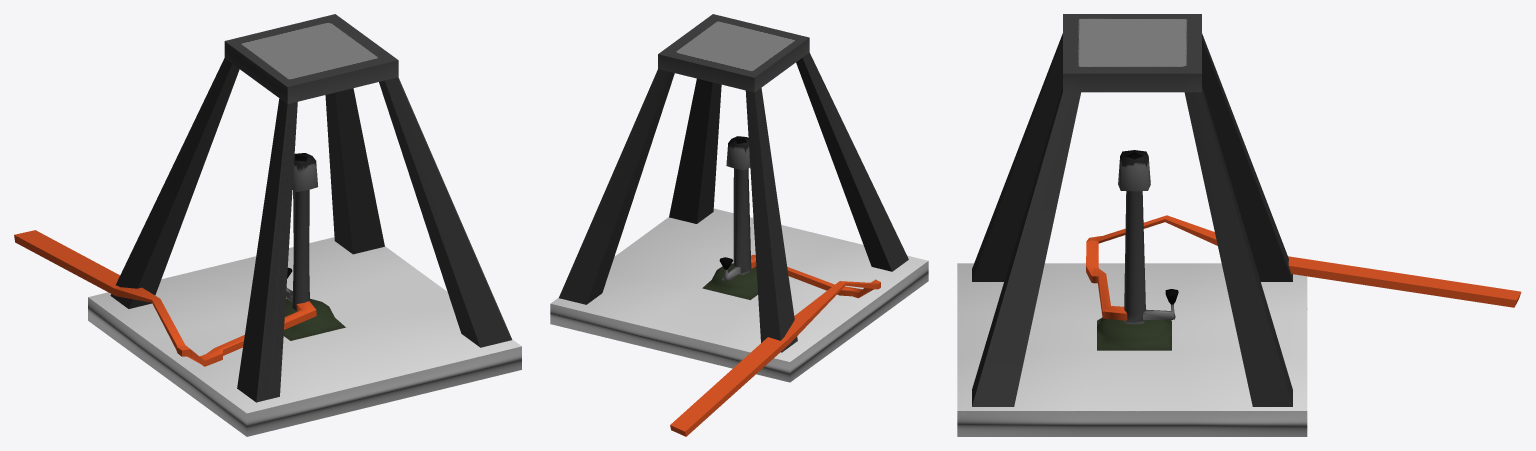
File: Bunsenburner.fbx
3 renders of one model, left to right at view 1: azimuth 30°, elevation 25°; view 2: azimuth 150°, elevation 25°; view 3: azimuth 270°, elevation 25°, orthographic. The views are drawn at different scales.
Parts seen in each view (by area): view 1: Bunsenburner; view 2: Bunsenburner; view 3: Bunsenburner.
Part boxes in pixels (x1,y1,x2,y2): Bunsenburner: (14, 14, 521, 436); Bunsenburner: (550, 14, 928, 436); Bunsenburner: (957, 14, 1521, 436).
Bounding box in the file's own units: 76.76 × 76.47 × 121.
2 materials, 2 textured.
